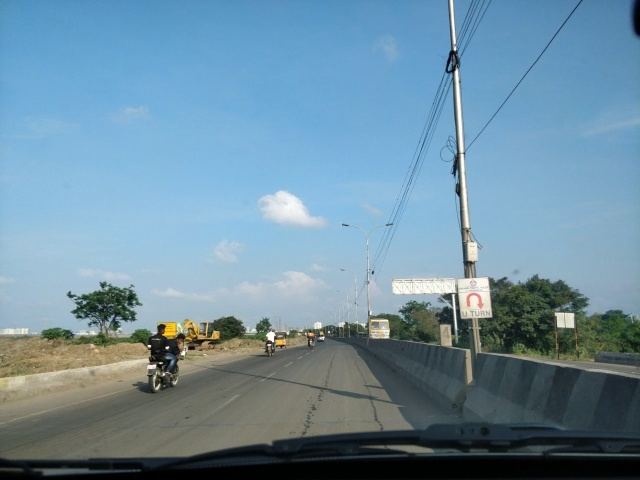auto: (275, 328, 289, 349)
motorbike: (146, 329, 183, 393), (265, 333, 275, 359), (303, 326, 315, 347)
tractor: (161, 316, 222, 347)
truck: (366, 317, 396, 340)
